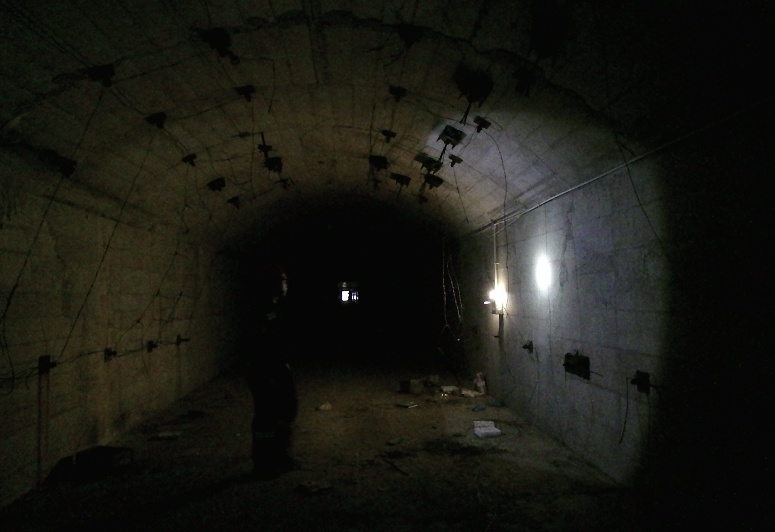person: (225, 265, 298, 476)
